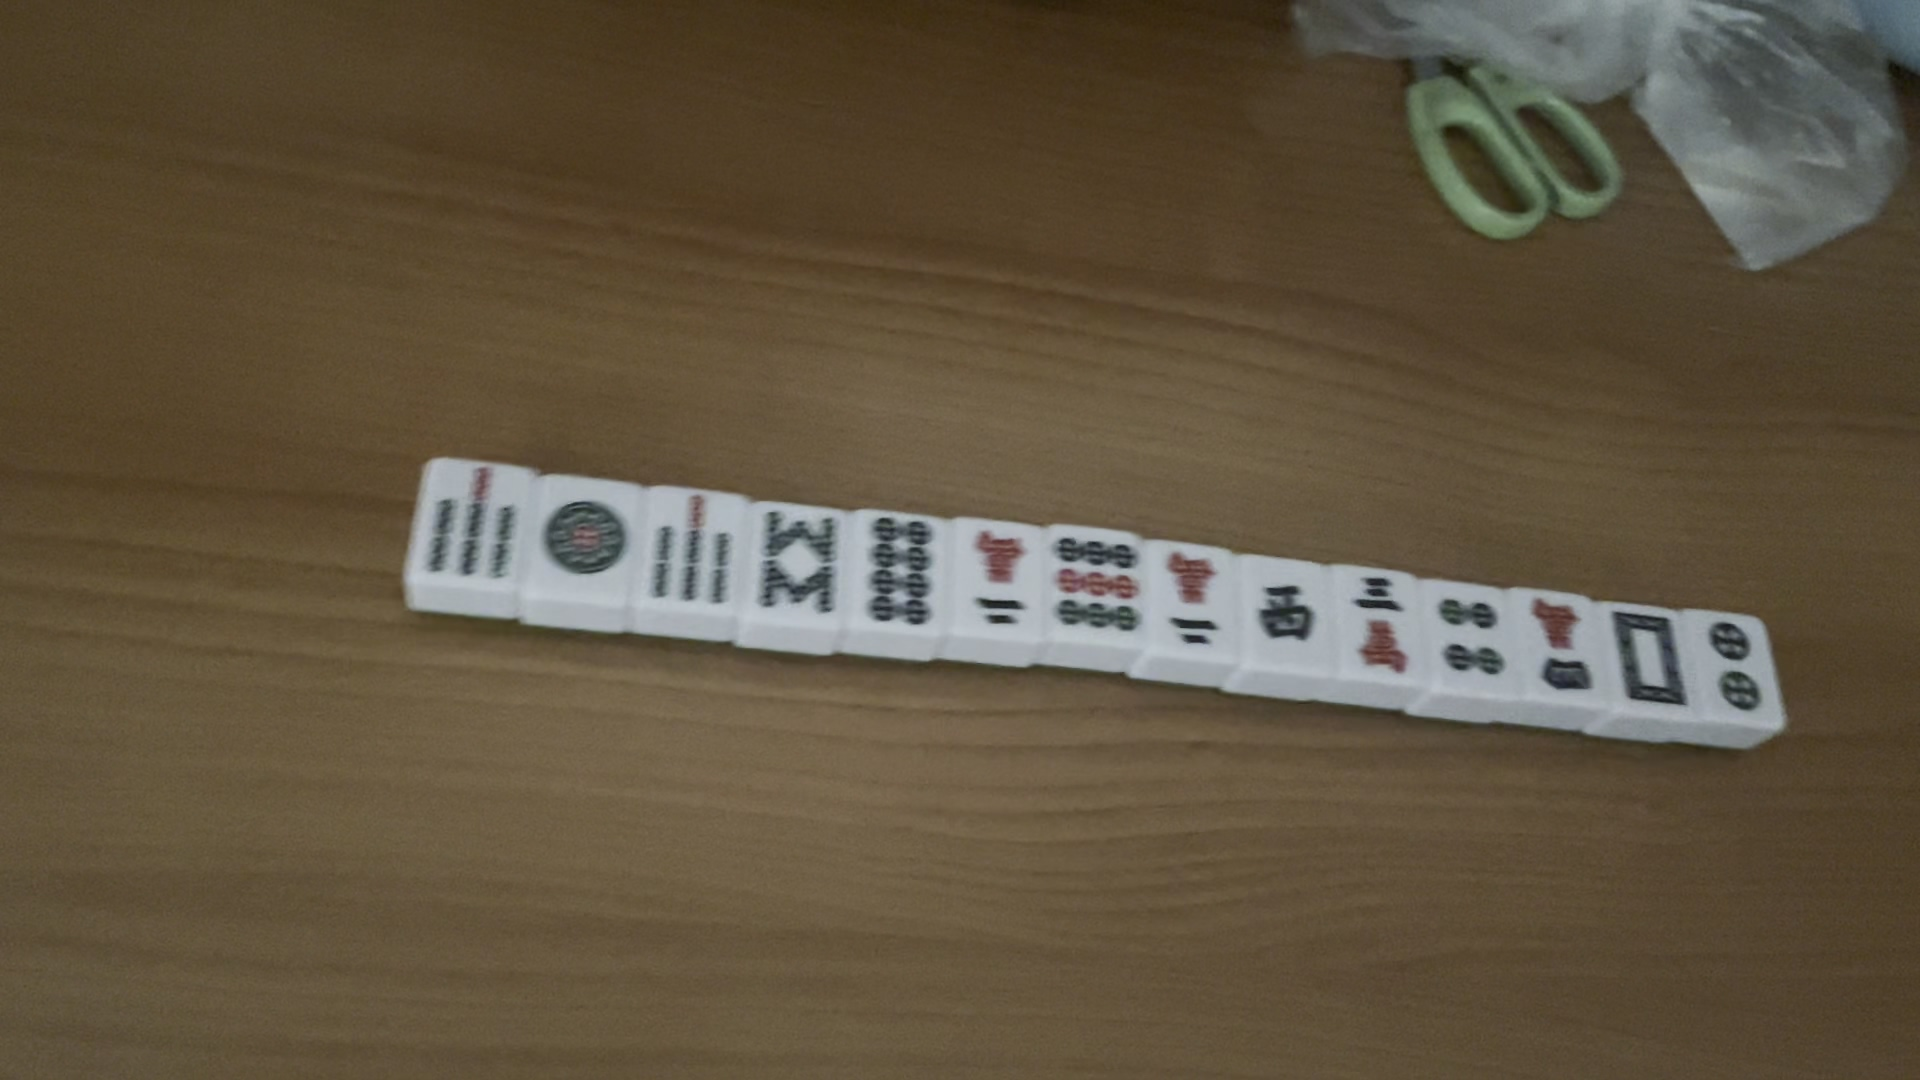b-7: (415, 460, 520, 580), (647, 492, 735, 604)
b-8: (757, 506, 837, 622)
c-2: (964, 530, 1033, 630), (1164, 546, 1228, 653)
c-3: (1342, 570, 1415, 676)
c-4: (1528, 596, 1594, 695)
d-1: (535, 491, 632, 578)
d-2: (1706, 615, 1764, 715)
d-4: (1431, 589, 1506, 676)
d-8: (860, 512, 938, 632)
d-9: (1052, 533, 1145, 634)
hornors-west: (1251, 568, 1320, 651)
hornors-white: (1609, 608, 1696, 709)
